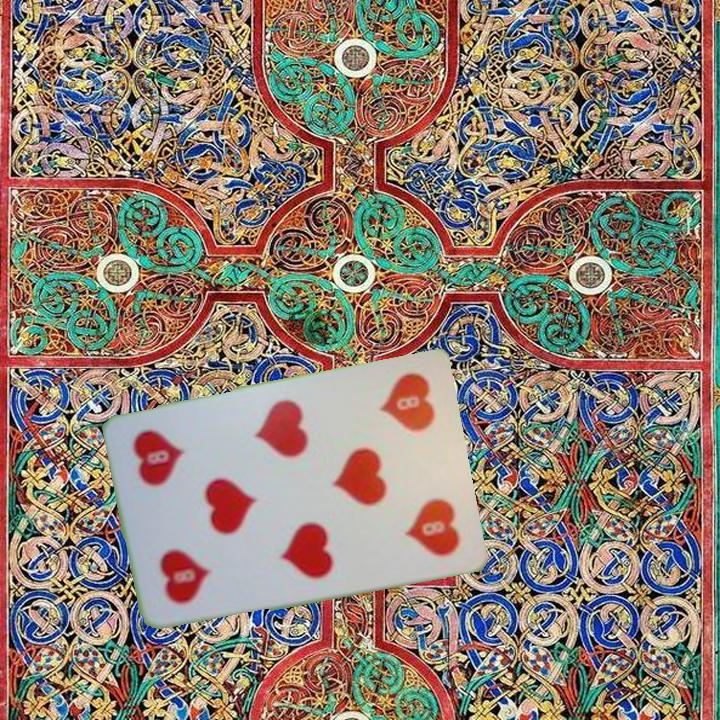h_8.png: (350, 366, 453, 479), (136, 502, 238, 615)
